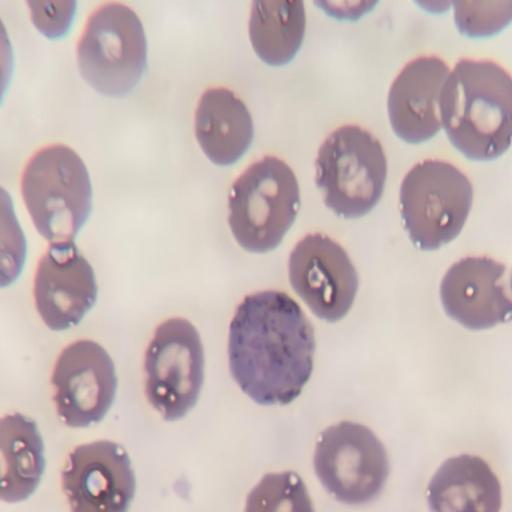Infected: (231, 288, 314, 408)
Uninfected: (227, 155, 302, 255), (438, 60, 512, 158), (74, 4, 150, 98), (399, 159, 473, 252), (18, 145, 88, 243), (314, 124, 387, 216), (289, 231, 360, 323), (311, 421, 390, 502), (387, 53, 456, 142), (147, 317, 204, 420), (51, 340, 116, 429), (62, 440, 136, 512), (439, 258, 512, 330), (34, 249, 97, 330), (193, 85, 254, 166), (427, 454, 501, 512), (250, 0, 306, 64)
